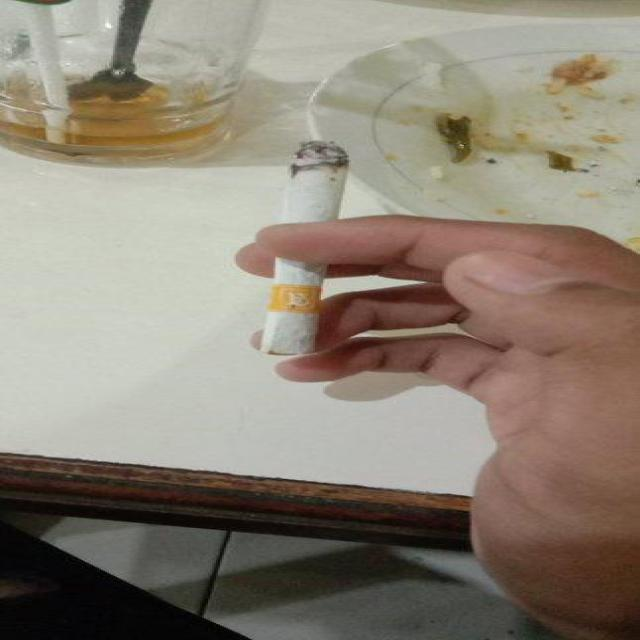rokok: (260, 137, 352, 360)
